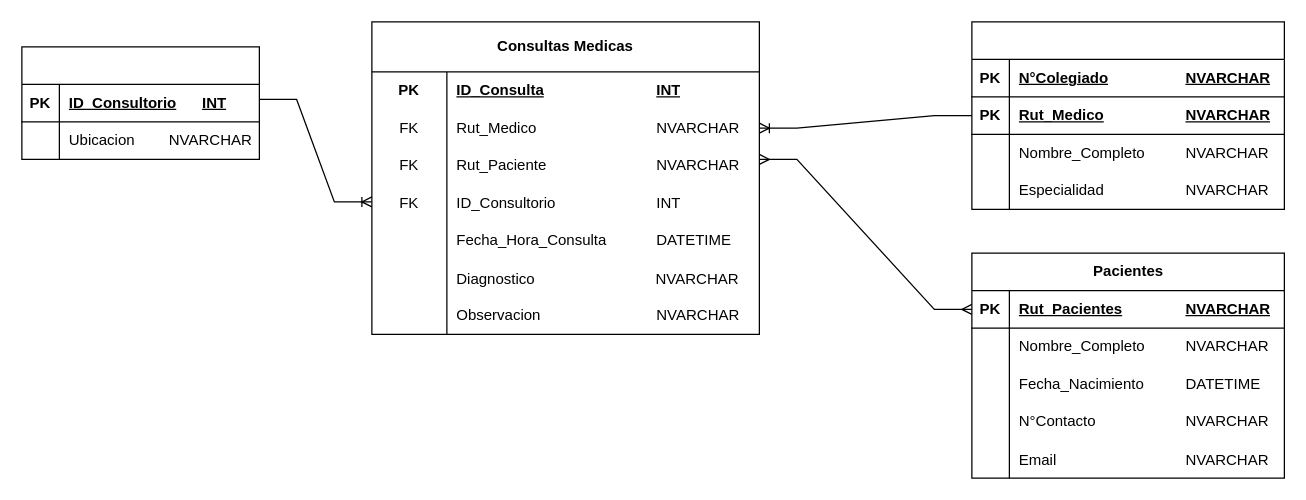
The diagram is 1306 pixels wide and 500 high, and some of its shapes have lost their labels. Here are the shapes that lost their labels. From the top down, the box of each, then its label:
(21, 46, 259, 159): Consultorios
(971, 21, 1284, 209): Medicos
